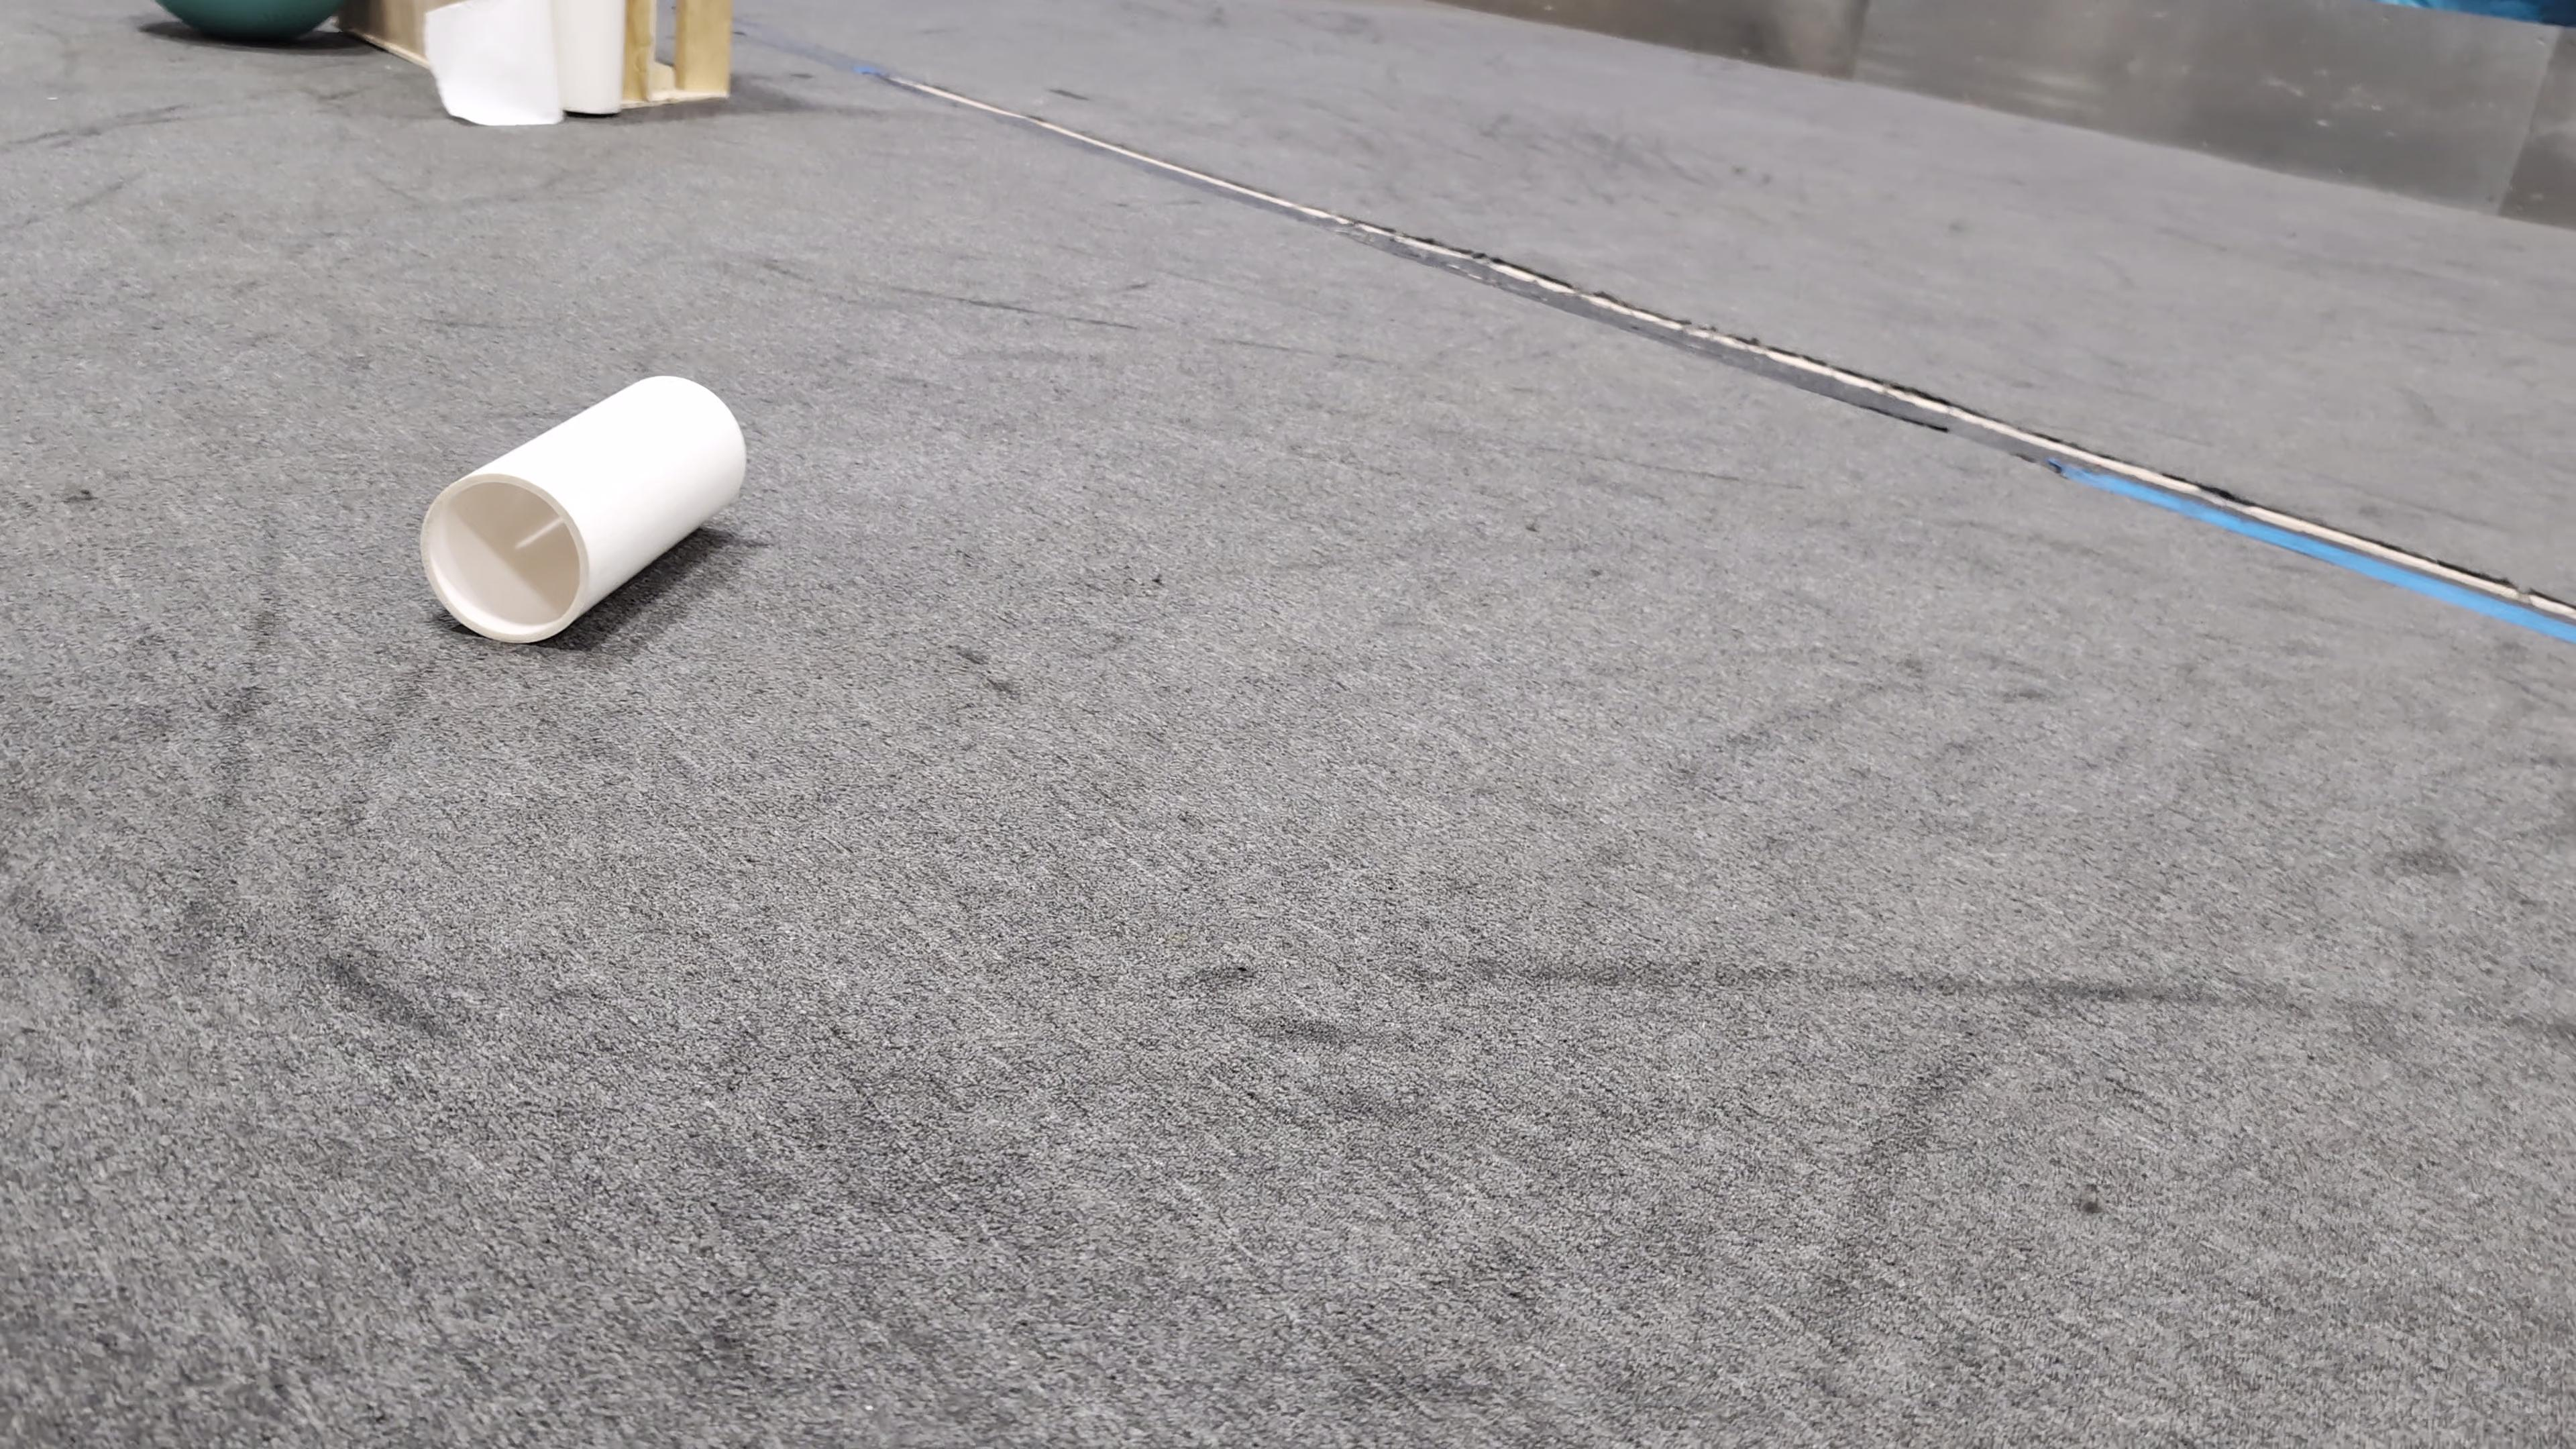coral: (419, 370, 748, 644)
